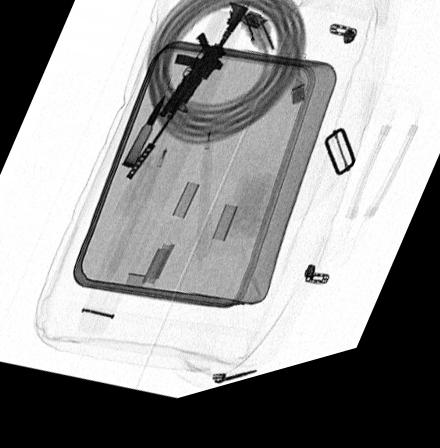Bullet: (122, 101, 166, 176)
Gun: (126, 15, 250, 187)
